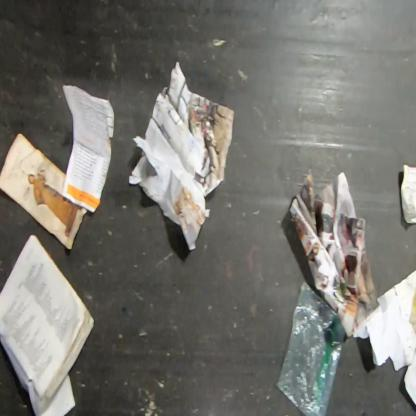soft_plastic: (274, 278, 348, 415)
